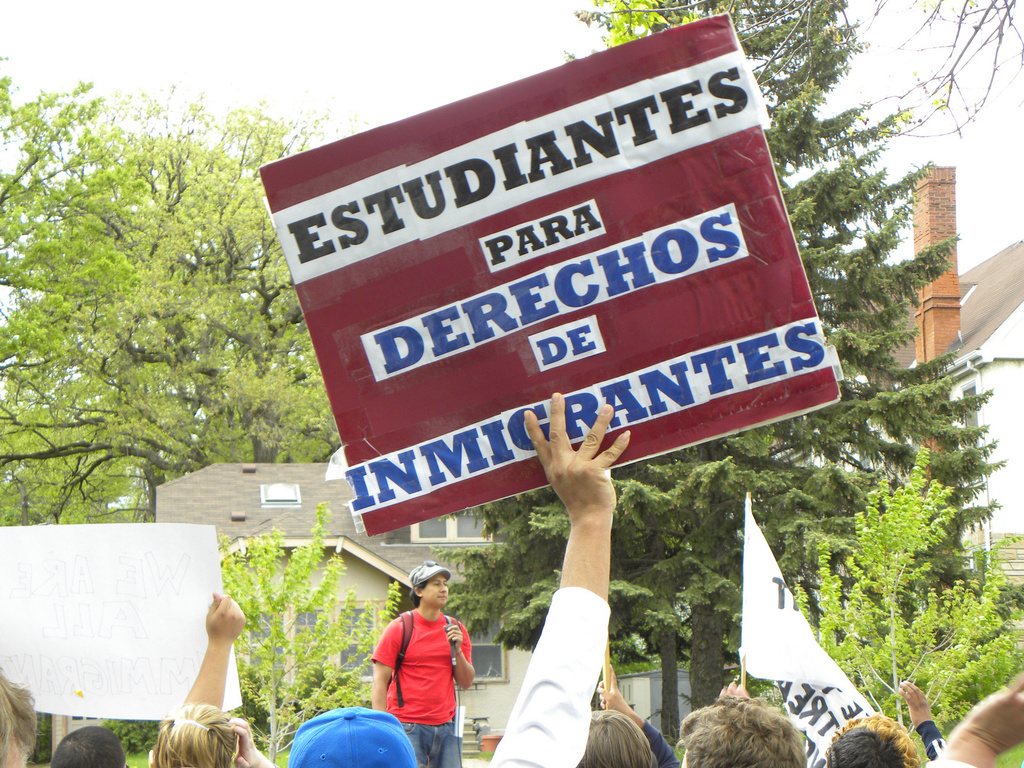Tree: (222, 1, 1023, 767), (0, 48, 383, 525)
